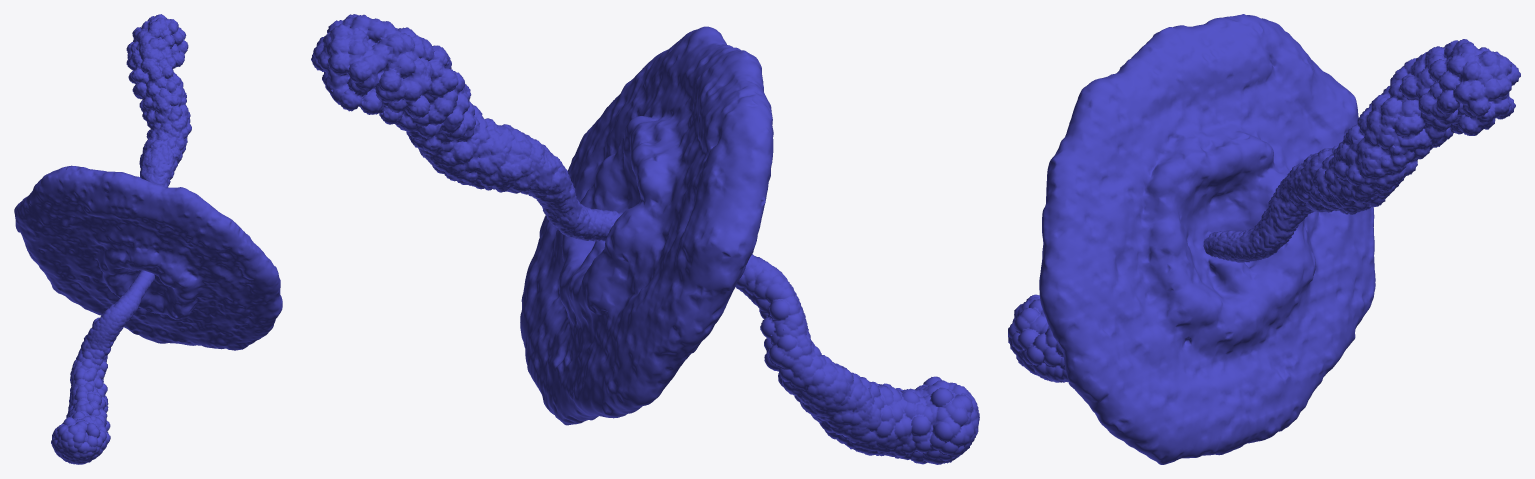
File: Crab Nebula.glb
3 views of the same model, side by side, from view 1: azimuth 30°, elevation 25°; view 2: azimuth 150°, elevation 25°; view 3: azimuth 270°, elevation 25° (orthographic). The views are drawn at different scales.
Parts seen in each view (by area): view 1: CrabNebulaXrayModel_OBJexport; view 2: CrabNebulaXrayModel_OBJexport; view 3: CrabNebulaXrayModel_OBJexport.
Boxes of the visible parts, x1,y1,x2,y2 form: CrabNebulaXrayModel_OBJexport: (14, 14, 282, 464); CrabNebulaXrayModel_OBJexport: (311, 14, 979, 464); CrabNebulaXrayModel_OBJexport: (1008, 14, 1520, 464).
Size of the model in its own units: 171 by 190 by 178.
